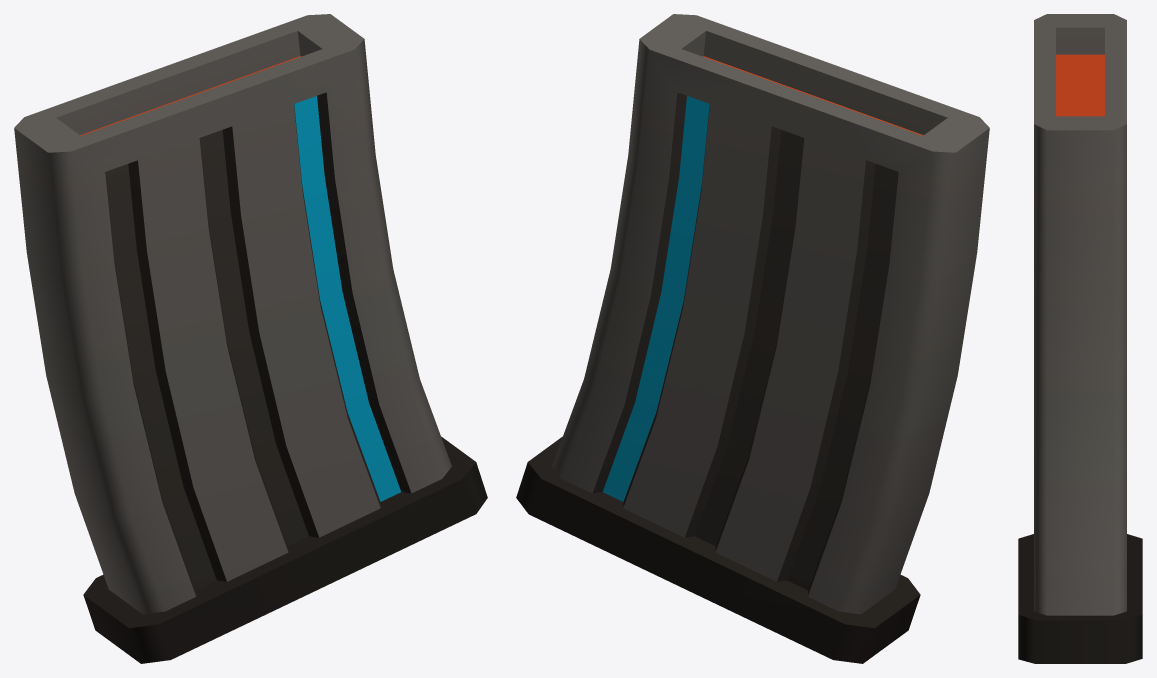
File: AR5_Magazine.fbx
3 renders of one model, left to right at view 1: azimuth 30°, elevation 25°; view 2: azimuth 150°, elevation 25°; view 3: azimuth 270°, elevation 25°, orthographic.
Parts seen in each view (by area): view 1: AR5_Magazine; view 2: AR5_Magazine; view 3: AR5_Magazine.
Boxes of the visible parts, x1,y1,x2,y2 form: AR5_Magazine: (14, 14, 487, 663); AR5_Magazine: (516, 14, 989, 663); AR5_Magazine: (1018, 14, 1142, 663).
Size of the model in its own units: 10.85 by 13.5 by 2.73.
